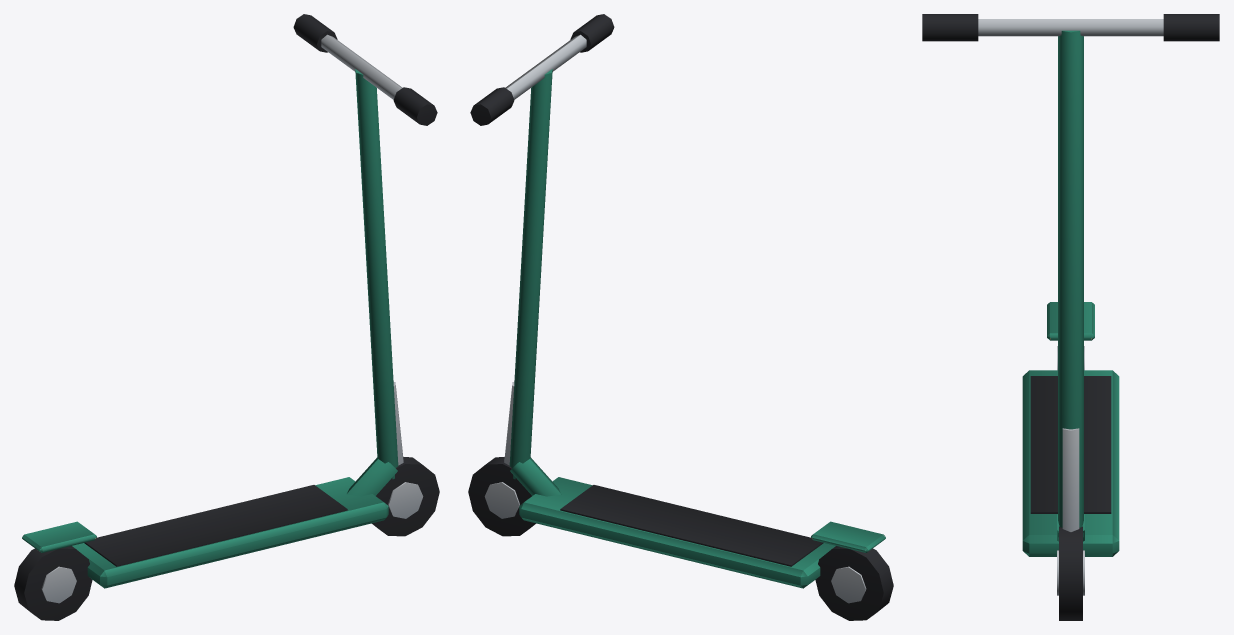
Rendered from ck_kick_scooter.fbx.
3 views of the same model, side by side, from view 1: azimuth 30°, elevation 25°; view 2: azimuth 150°, elevation 25°; view 3: azimuth 270°, elevation 25° (orthographic). The views are drawn at different scales.
Parts seen in each view (by area): view 1: ck_kick_scooter; view 2: ck_kick_scooter; view 3: ck_kick_scooter.
Part boxes in pixels (<box>): ck_kick_scooter: <box>14,14,439,620</box>; ck_kick_scooter: <box>468,14,893,620</box>; ck_kick_scooter: <box>922,14,1219,620</box>.
Size of the model in its own units: 226 by 250 by 116.
